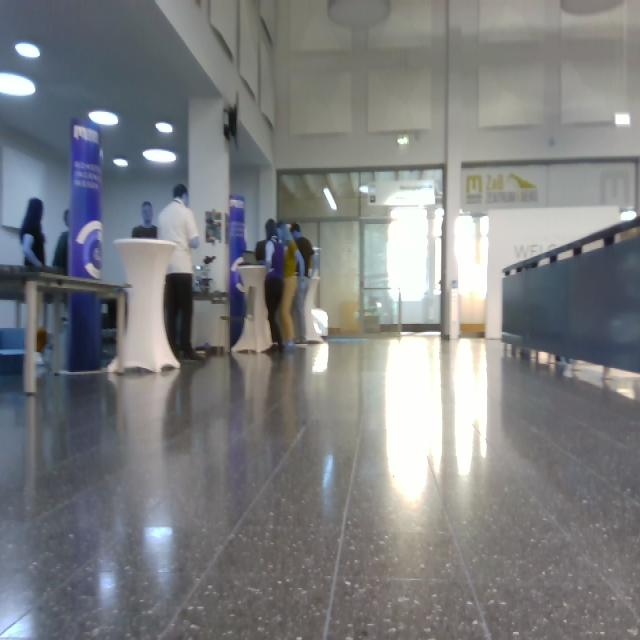door: (319, 220, 361, 334)
light bulb: (327, 1, 391, 32), (1, 72, 36, 97), (143, 148, 177, 164), (88, 111, 119, 127), (15, 41, 41, 60), (433, 208, 445, 238), (323, 187, 338, 211), (155, 121, 173, 134)
person: (158, 184, 205, 362), (277, 221, 305, 349), (290, 222, 315, 344), (264, 218, 285, 353), (132, 201, 158, 240)
staircase: (500, 215, 639, 383)
tiled floor: (2, 332, 639, 638)
